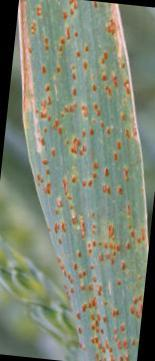Wheat: (22, 7, 120, 136), (36, 142, 142, 198), (84, 253, 138, 361), (53, 204, 146, 245)
